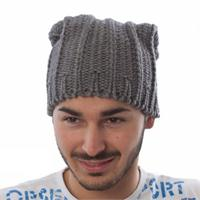hat: (46, 14, 159, 118)
